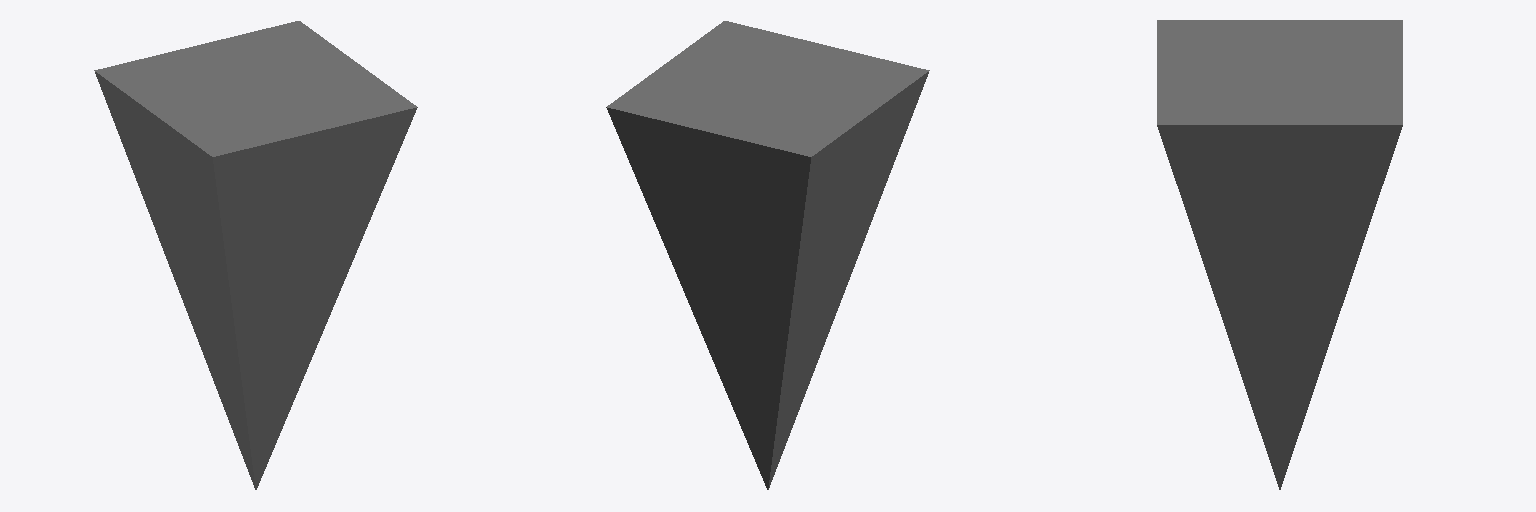
robot.urdf — cone:
<robot name="cone">
  <link name="base_link">
    <visual>
      <geometry>
        <mesh filename="CONEsmall.STL" scale="10 10 10"/>
      </geometry>
      <material name="grey">
        <color rgba="0.5 0.5 0.5 0.5"/> <!-- Red, Green, Blue, Alpha -->
      </material>
    </visual>
    <collision>
      <geometry>
        <mesh filename="CONEsmall.STL" scale="10 10 10"/>
      </geometry>
    </collision>
    <inertial>
      <mass value="0"/> <!-- Mass in kilograms -->
      <origin xyz="0 0 0" rpy="0 0 0"/>
      <inertia ixx="0.1" ixy="0.0" ixz="0.0" iyy="0.1" iyz="0.0" izz="0.1"/>
    </inertial>
  </link>
</robot>

--- Facts derived from the render (not from the file) ---
The picture shows the robot from 3 angles, left to right: view 1: azimuth 30°, elevation 25°; view 2: azimuth 150°, elevation 25°; view 3: azimuth 270°, elevation 25°; orthographic projection.
Robot: cone — 1 links, 0 joints (none); root link base_link; default pose: every joint at zero.
Links seen in each view (by area): view 1: base_link; view 2: base_link; view 3: base_link.
Link boxes in pixels (bbox=[...]): base_link: bbox=[94, 21, 417, 489]; base_link: bbox=[606, 21, 929, 489]; base_link: bbox=[1157, 20, 1402, 489].
Bounding box of the posed robot: 8 × 8 × 15 m (x, y, z).
Meshes: 1 distinct files referenced, 1 mesh visuals loaded (1 binary STL).